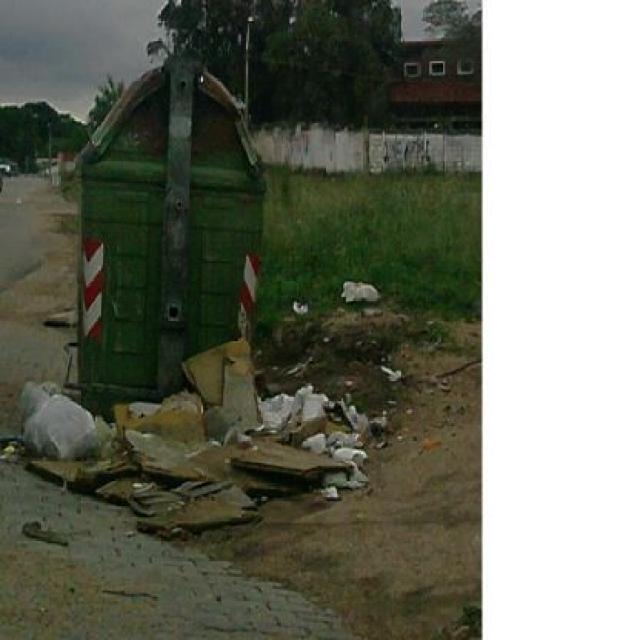garbage: (14, 371, 351, 526), (320, 360, 382, 492), (341, 272, 384, 306)
